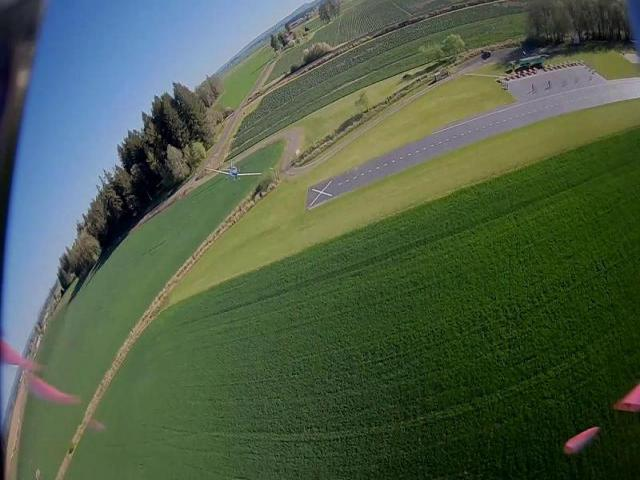hedef: (204, 150, 264, 188)
